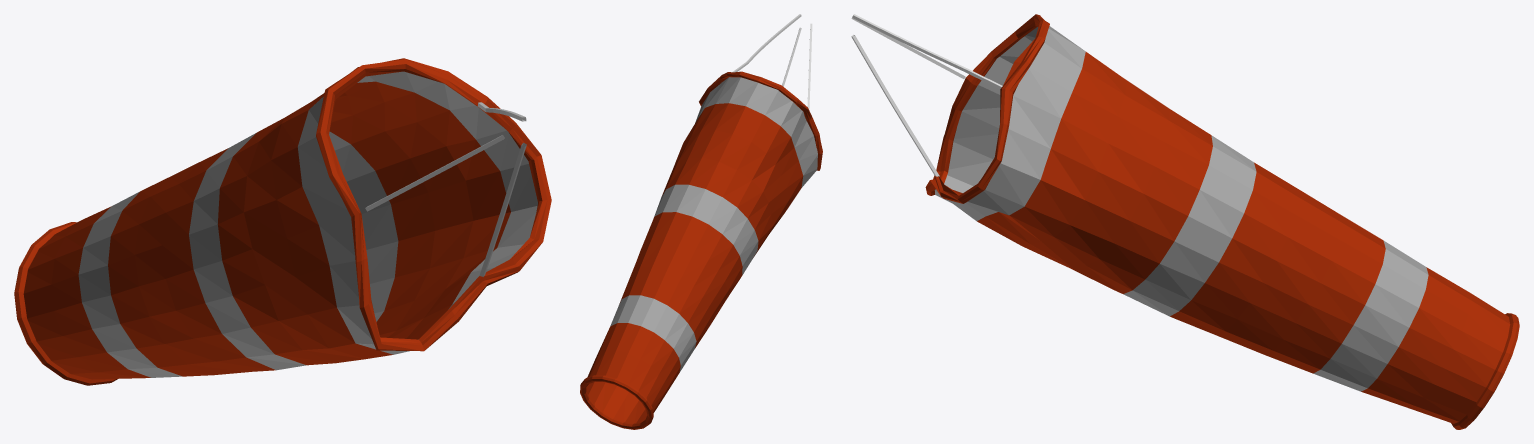
File: vertex_animation_textures1_mesh.fbx
The picture shows the model from 3 angles, left to right: view 1: azimuth 30°, elevation 25°; view 2: azimuth 150°, elevation 25°; view 3: azimuth 270°, elevation 25°; orthographic projection. The views are drawn at different scales.
Parts seen in each view (by area): view 1: MESH; view 2: MESH; view 3: MESH.
Boxes of the visible parts, <box> form: MESH: <box>14,58,551,385</box>; MESH: <box>580,14,822,429</box>; MESH: <box>851,14,1519,429</box>.
Bounding box in the file's own units: 34.19 × 81.85 × 117.
